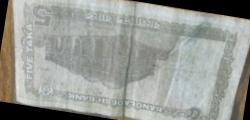5 taka: (13, 3, 226, 120)
